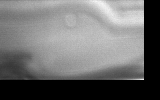cell: (59, 11, 79, 30)
